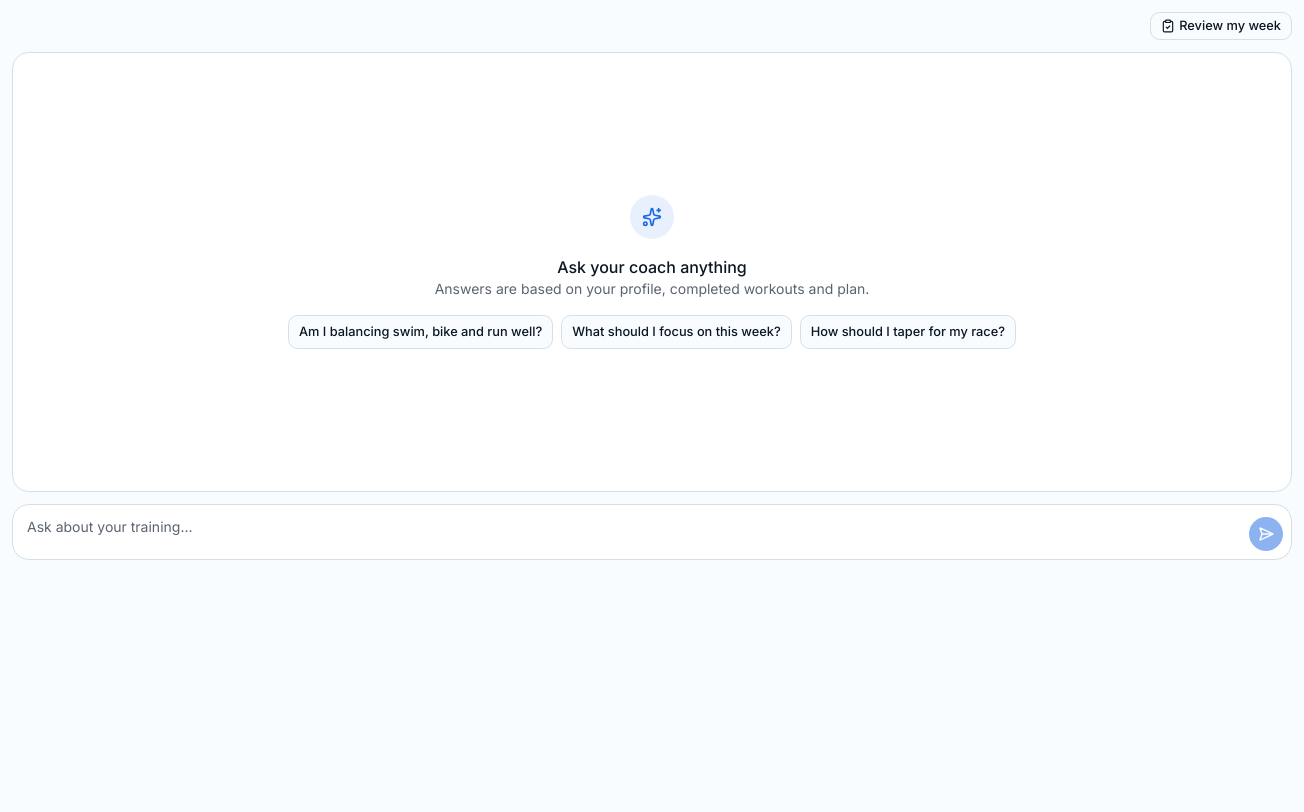
it: CoachChat › shows the reply as it streams in, with formatting
Type "What should I do?" into the text box with placeholder "Ask about your training..." at {"x": 652, "y": 532}, box [12,504,1292,560]
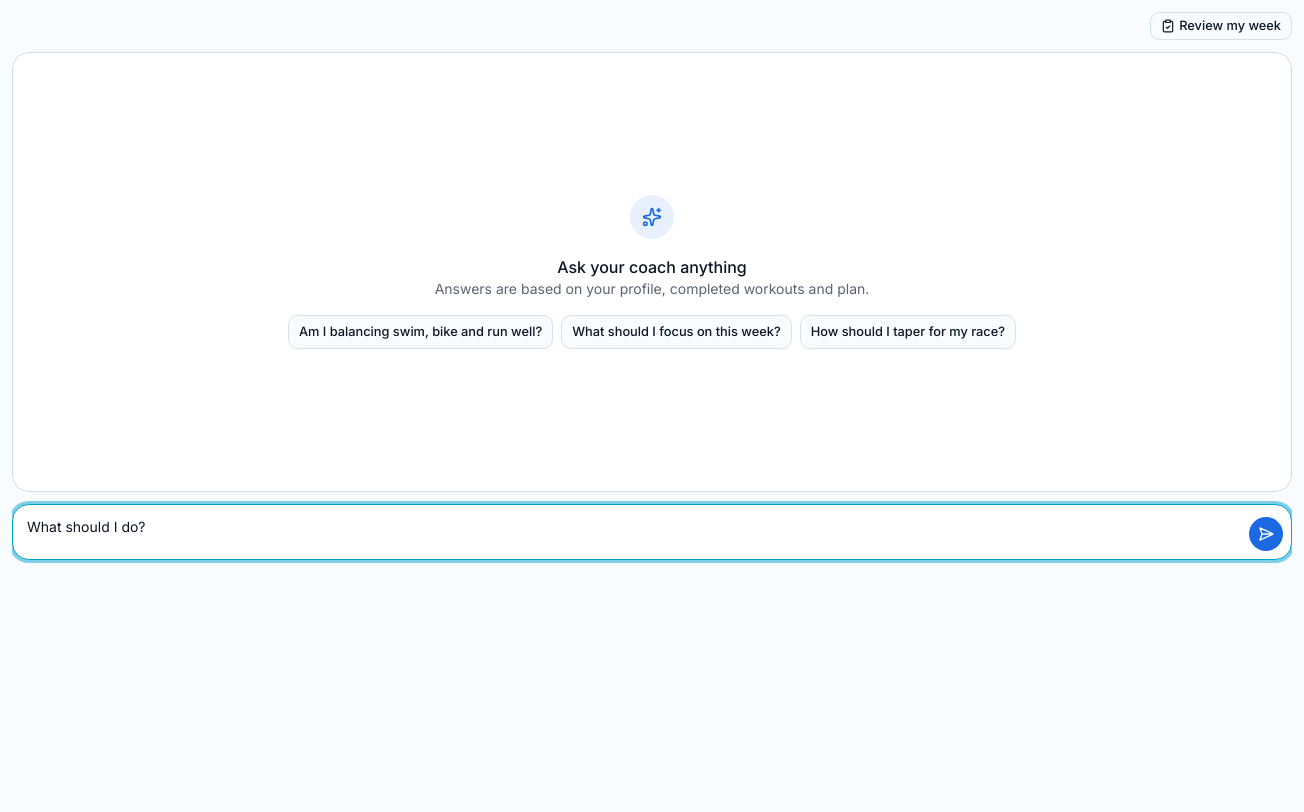
Click the button named "Send" at {"x": 1266, "y": 534}, box [1248,516,1284,552]
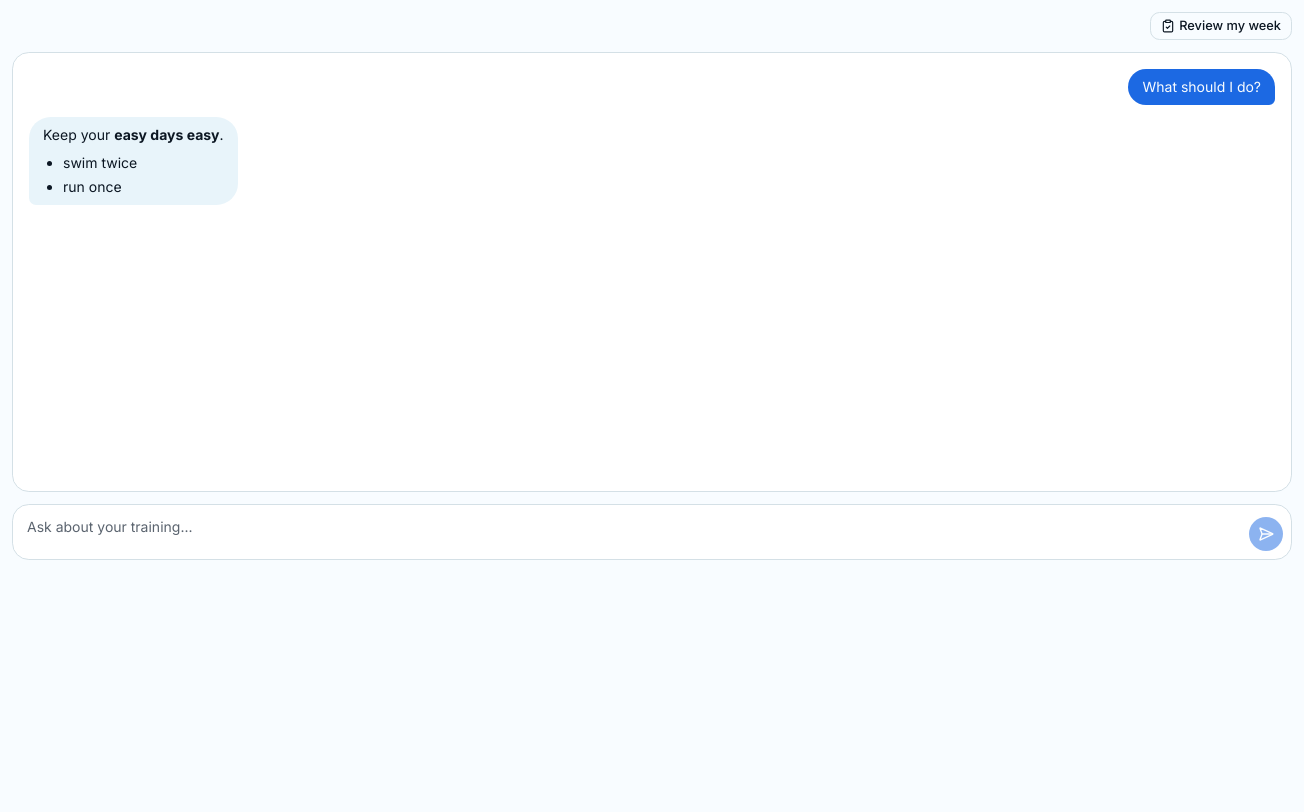
expect the text "easy days easy" is shown: met, box [114,126,220,143]
expect the list item "swim twice" is shown: met, box [63,154,137,171]
expect the text "What should I do?" is shown: met, box [1128,69,1275,105]
